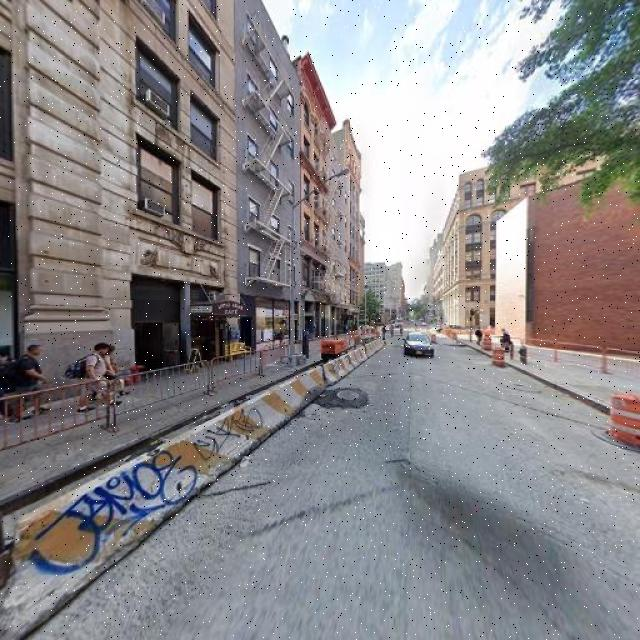Building: (1, 1, 362, 412)
